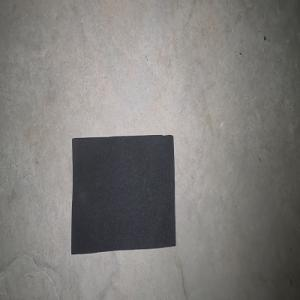PaintChip: (70, 134, 175, 255)
